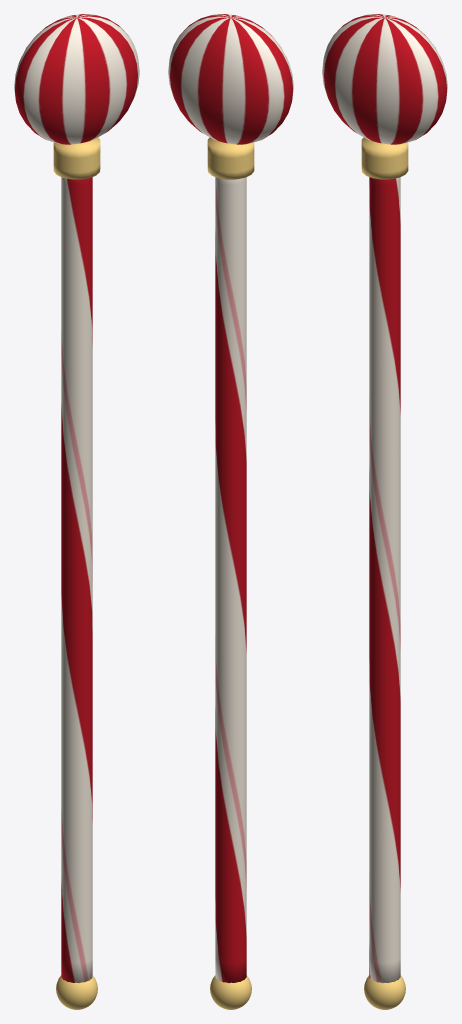
Rendered from snap_mace_v2.glb.
The picture shows the model from 3 angles, left to right: view 1: azimuth 30°, elevation 25°; view 2: azimuth 150°, elevation 25°; view 3: azimuth 330°, elevation 25°; orthographic projection.
Parts seen in each view (by area): view 1: snap_mace; view 2: snap_mace; view 3: snap_mace.
Boxes of the visible parts, left/top/right/bottom form: snap_mace: left=14, top=14, right=139, bottom=1009; snap_mace: left=168, top=14, right=293, bottom=1009; snap_mace: left=322, top=14, right=447, bottom=1009.
Size of the model in its own units: 0.26 by 2.08 by 0.1612.
Materials: 3 (2 with a texture image).
